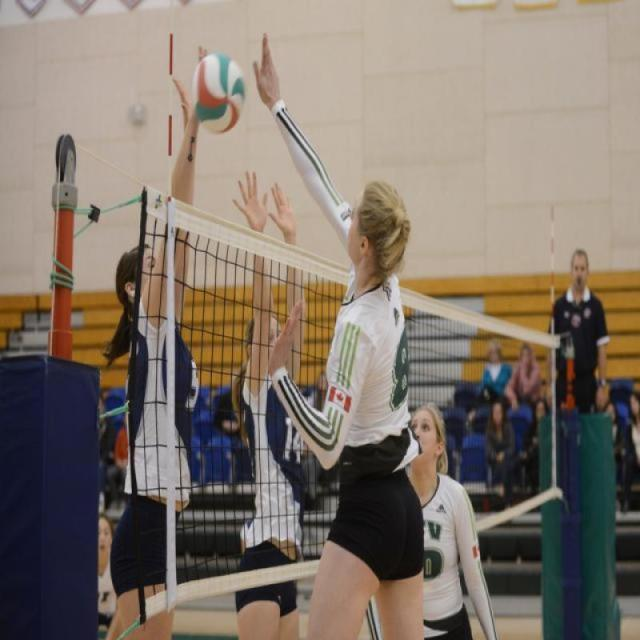volleyball: (189, 51, 246, 133)
